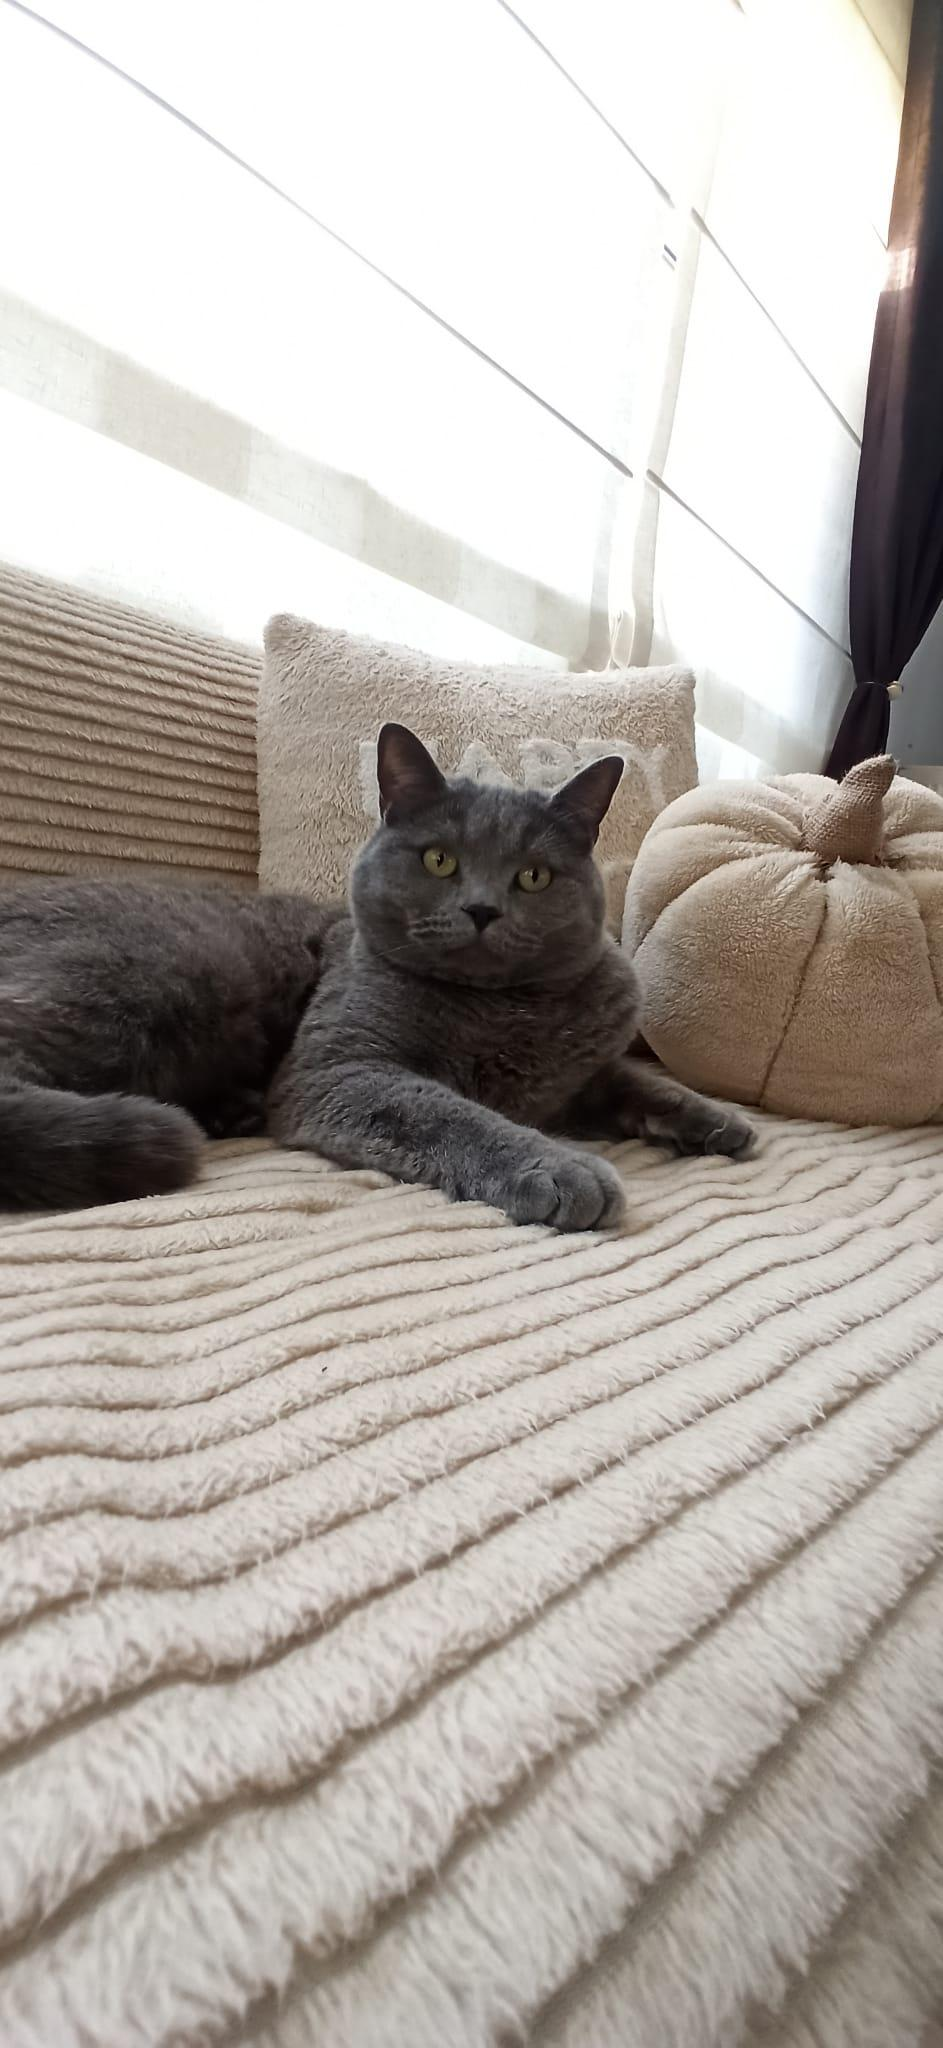kedo: (1, 720, 758, 1225)
